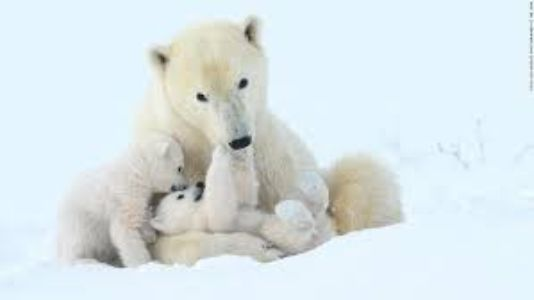bear: (140, 10, 360, 175), (65, 133, 177, 268), (160, 177, 329, 253)
